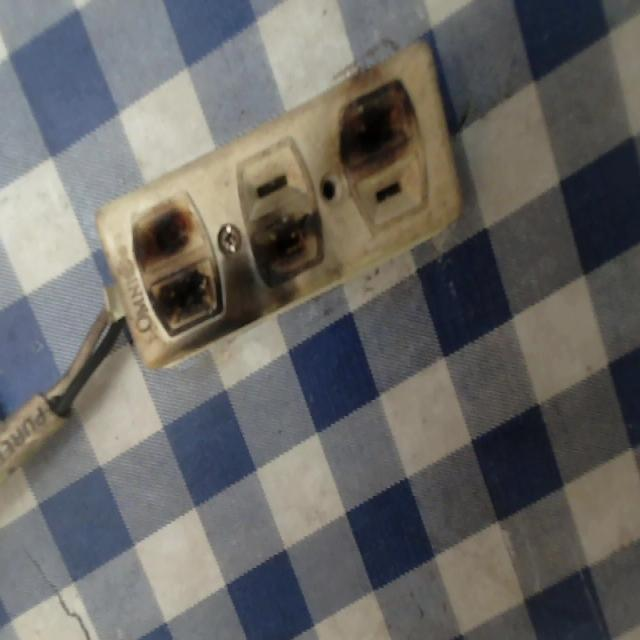-: (123, 185, 222, 343), (328, 84, 424, 177), (243, 204, 329, 301)
